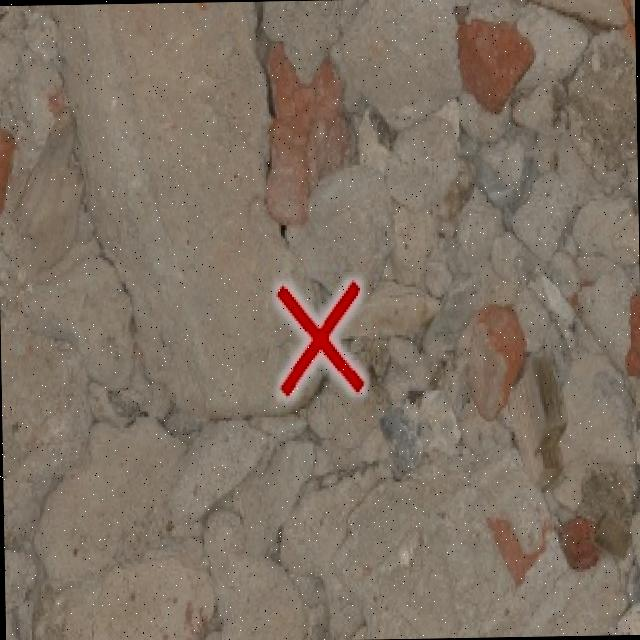x_marker: (276, 281, 362, 394)
